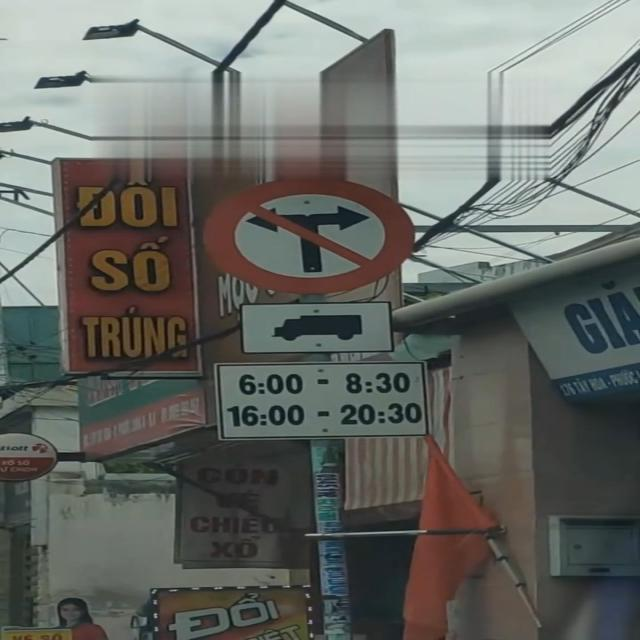137-cam-re-trai-va-re-phai: (204, 181, 416, 289)
